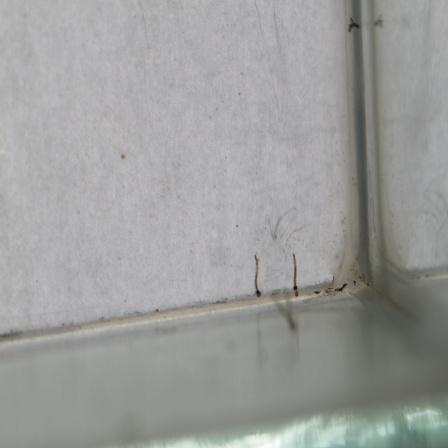Jentik-Nyamuk: (247, 252, 267, 301), (288, 249, 305, 302), (344, 13, 362, 36), (333, 281, 349, 295)
